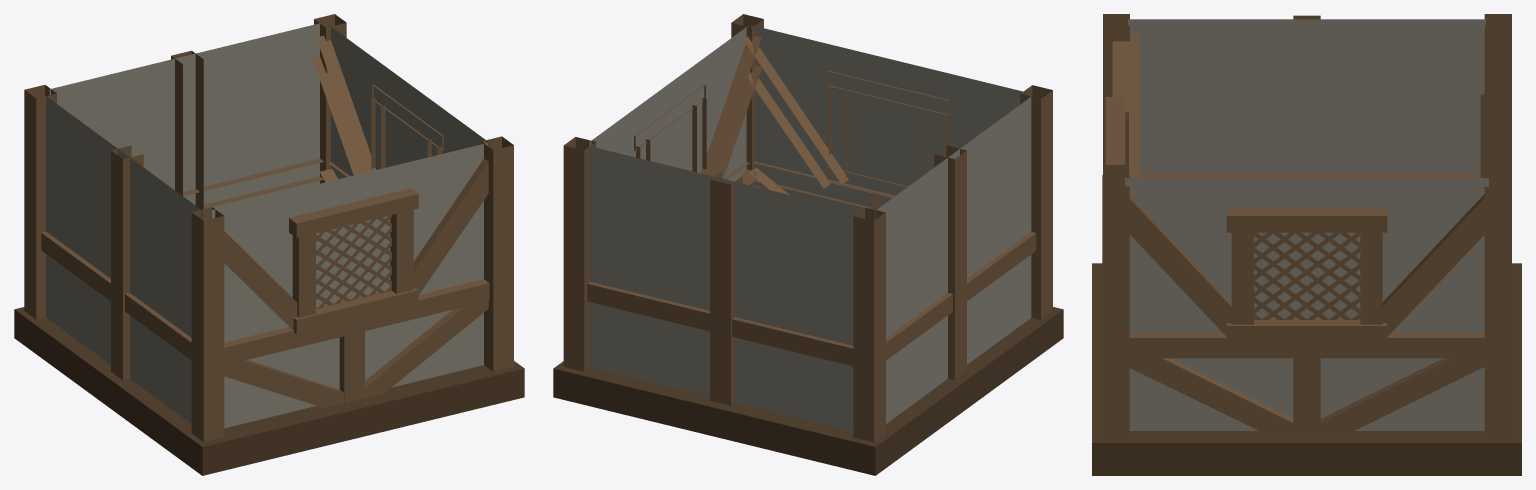
Rendered from M_HouseTower_2F.fbx.
The picture shows the model from 3 angles, left to right: view 1: azimuth 30°, elevation 25°; view 2: azimuth 150°, elevation 25°; view 3: azimuth 270°, elevation 25°; orthographic projection. The views are drawn at different scales.
Visible parts, largest first — view 1: pCube144, pCube5, pCube132, Sol, pCube6, pCube111, pCube131, pCube17, pCube140, pCube134, pPlane8, pCube45 (+14 smaller); view 2: pCube5, pCube144, pCube132, Sol, pCube6, pCube17, pCube16, pCube52, pCube21, pCube111, pCube134, pCube133 (+5 smaller); view 3: pCube132, pCube6, Sol, pCube20, pCube131, pCube16, pPlane1, pCube48, pCube47, pCube45, pCube46, pCube34 (+10 smaller).
Part boxes in pixels (x1=…): pCube144: x1=212, y1=143, x2=487, y2=428; pCube5: x1=49, y1=23, x2=321, y2=209; pCube132: x1=46, y1=96, x2=202, y2=423; Sol: x1=14, y1=307, x2=524, y2=475; pCube6: x1=329, y1=25, x2=488, y2=179; pCube111: x1=191, y1=207, x2=224, y2=441; pCube131: x1=481, y1=136, x2=513, y2=371; pCube17: x1=24, y1=85, x2=56, y2=319; pCube140: x1=224, y1=279, x2=489, y2=365; pCube134: x1=111, y1=145, x2=143, y2=380; pPlane8: x1=316, y1=215, x2=391, y2=308; pCube45: x1=312, y1=35, x2=376, y2=175; pCube5: x1=588, y1=146, x2=860, y2=431; pCube144: x1=751, y1=25, x2=1026, y2=211; pCube132: x1=875, y1=96, x2=1032, y2=423; Sol: x1=553, y1=307, x2=1063, y2=475; pCube6: x1=589, y1=26, x2=748, y2=181; pCube17: x1=853, y1=207, x2=885, y2=442; pCube16: x1=563, y1=137, x2=596, y2=371; pCube52: x1=710, y1=171, x2=742, y2=405; pCube21: x1=587, y1=281, x2=853, y2=366; pCube111: x1=1020, y1=85, x2=1052, y2=319; pCube134: x1=934, y1=145, x2=966, y2=380; pCube133: x1=886, y1=232, x2=1036, y2=360; pCube132: x1=1128, y1=19, x2=1485, y2=173; pCube6: x1=1125, y1=178, x2=1488, y2=430; Sol: x1=1092, y1=263, x2=1521, y2=475; pCube20: x1=1129, y1=332, x2=1484, y2=358; pCube131: x1=1102, y1=175, x2=1129, y2=439; pCube16: x1=1484, y1=175, x2=1511, y2=439; pPlane1: x1=1254, y1=232, x2=1360, y2=319; pCube48: x1=1129, y1=358, x2=1293, y2=435; pCube47: x1=1320, y1=358, x2=1484, y2=435; pCube45: x1=1382, y1=186, x2=1489, y2=336; pCube46: x1=1129, y1=194, x2=1231, y2=336; pCube34: x1=1226, y1=208, x2=1387, y2=232.
Bounding box in the file's own units: 3.8 × 2.83 × 3.85.
